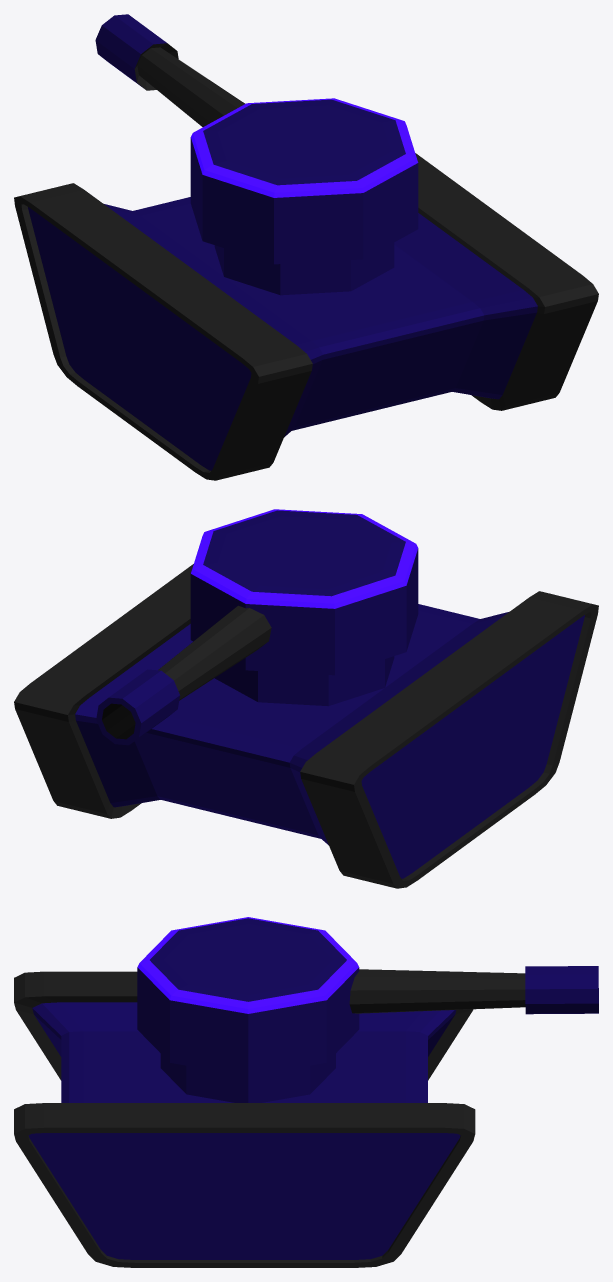
File: tank.glb
3 views of the same model, one above another, from view 1: azimuth 30°, elevation 25°; view 2: azimuth 150°, elevation 25°; view 3: azimuth 270°, elevation 25° (orthographic). The views are drawn at different scales.
Visible parts, largest first — view 1: Body, Tower, Barrel; view 2: Body, Tower, Barrel; view 3: Body, Tower, Barrel.
Boxes of the visible parts, x1,y1,x2,y2 form: Body: [14, 153, 598, 480]; Tower: [190, 98, 418, 295]; Barrel: [95, 14, 245, 126]; Body: [14, 564, 598, 888]; Tower: [190, 509, 418, 706]; Barrel: [96, 605, 271, 745]; Body: [14, 971, 475, 1267]; Tower: [137, 917, 359, 1102]; Barrel: [349, 966, 598, 1014].
Bounding box in the file's own units: 2 × 1.38 × 3.17.
